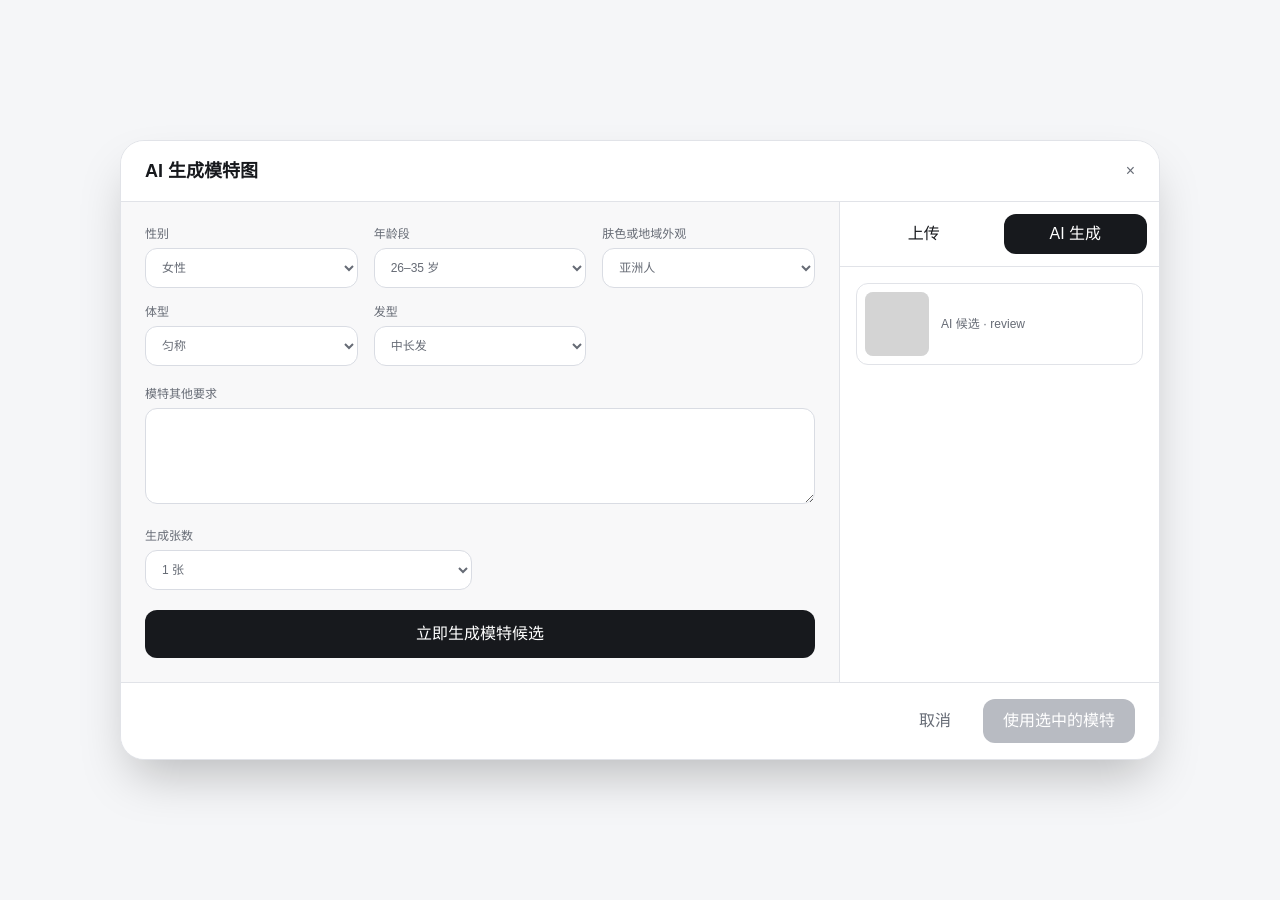
Test: opens a candidate in a large preview on double click and closes it with Escape
The image size is (1280, 900).
Double-click the button with aria-label "选择模特候选 model-preview" at (1000, 324), box [856, 283, 1143, 365]
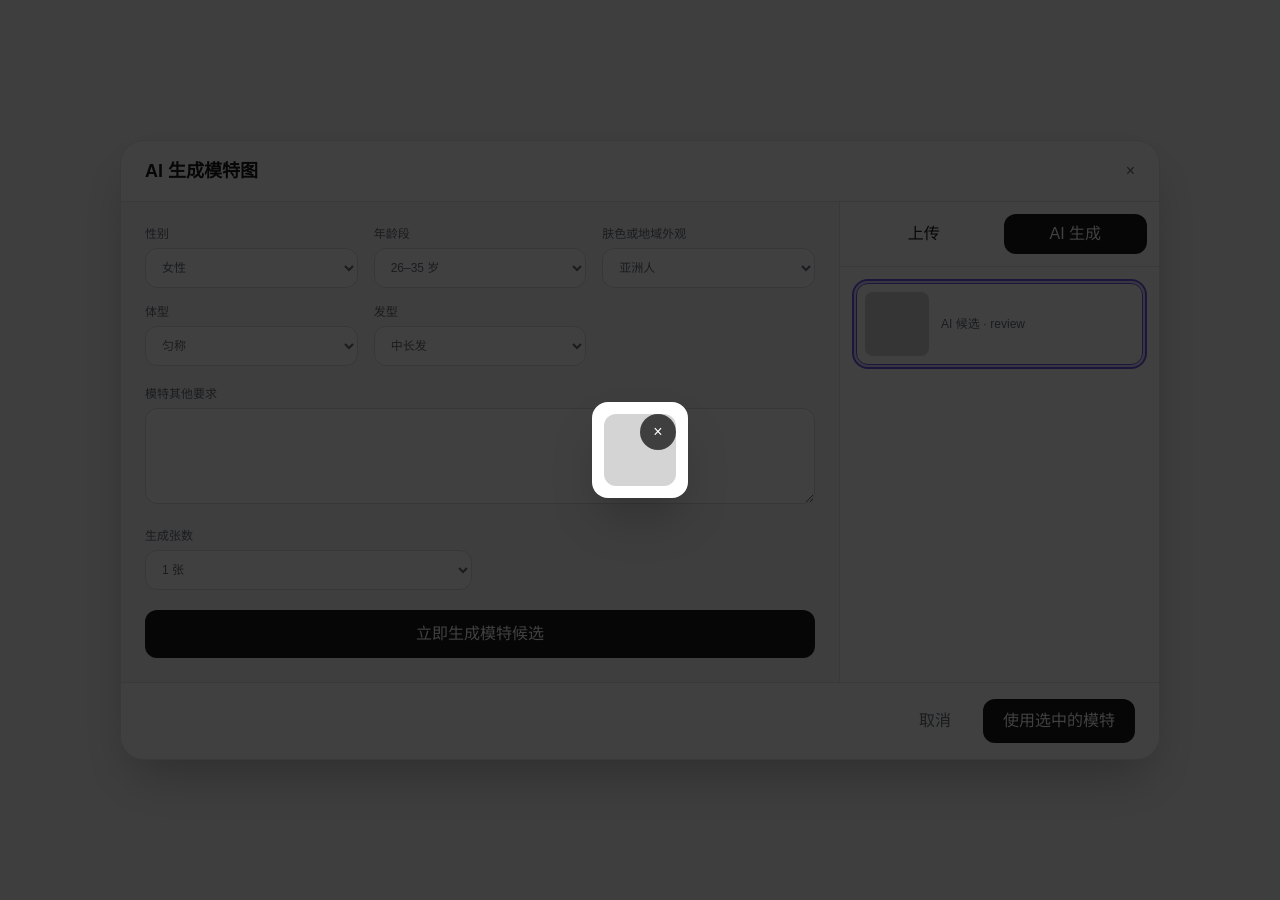
Result: the dialog named "模特候选大图" is shown
Press Escape
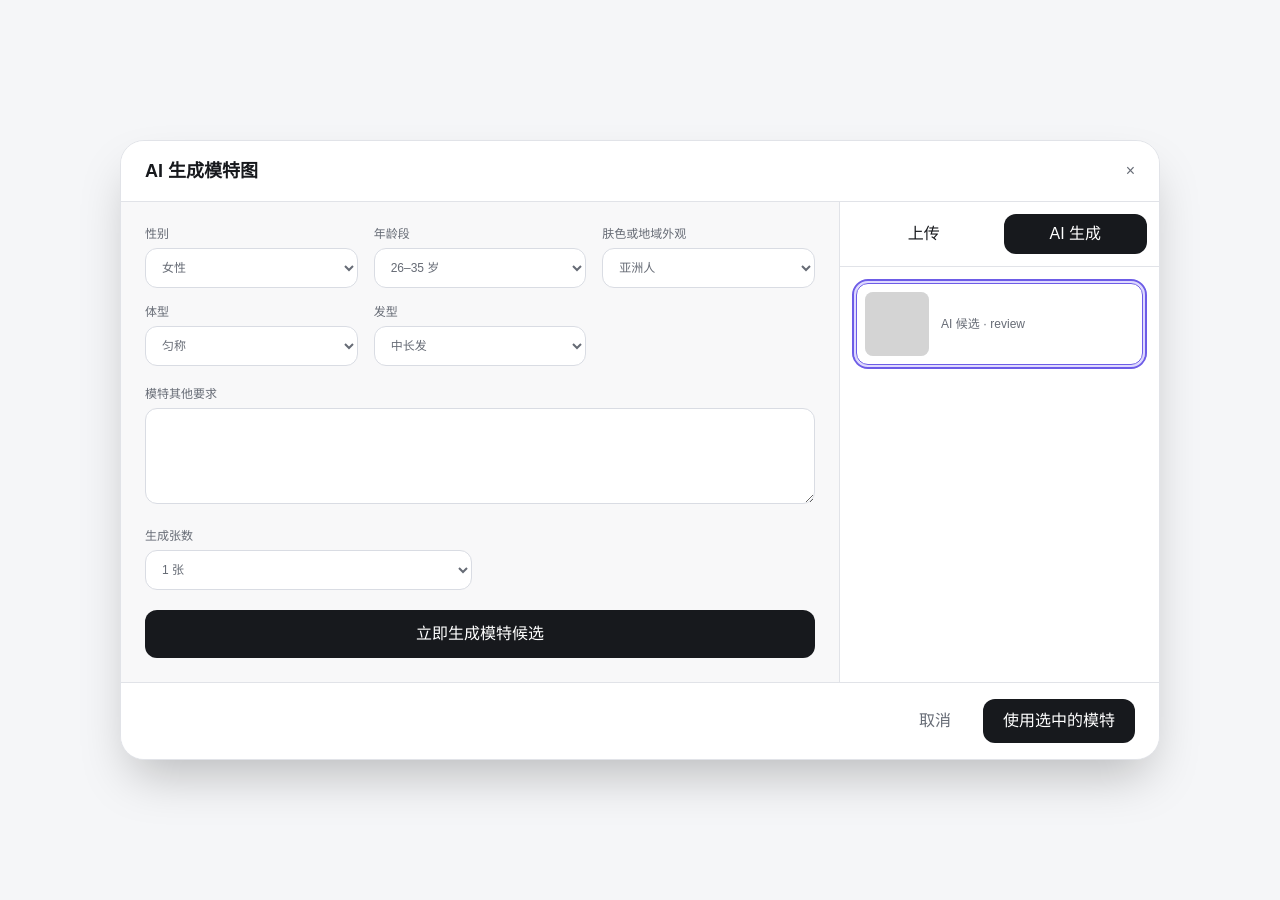
Result: the picture "模特候选大图" is gone
